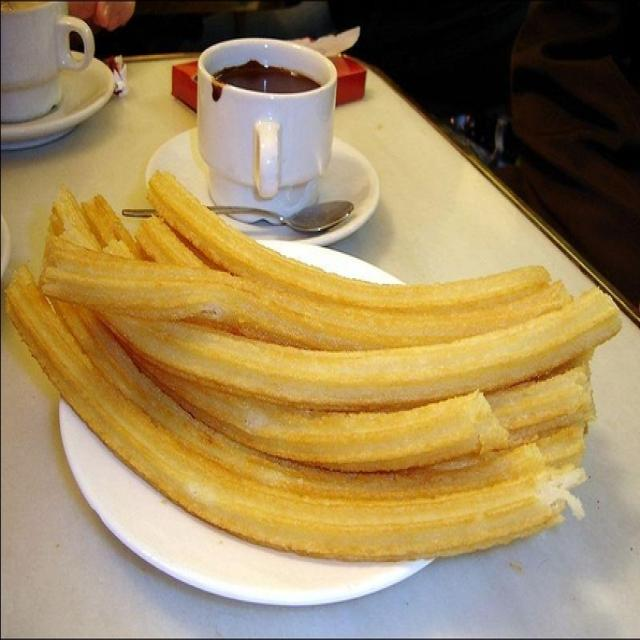炸货点心: (10, 159, 625, 573)
